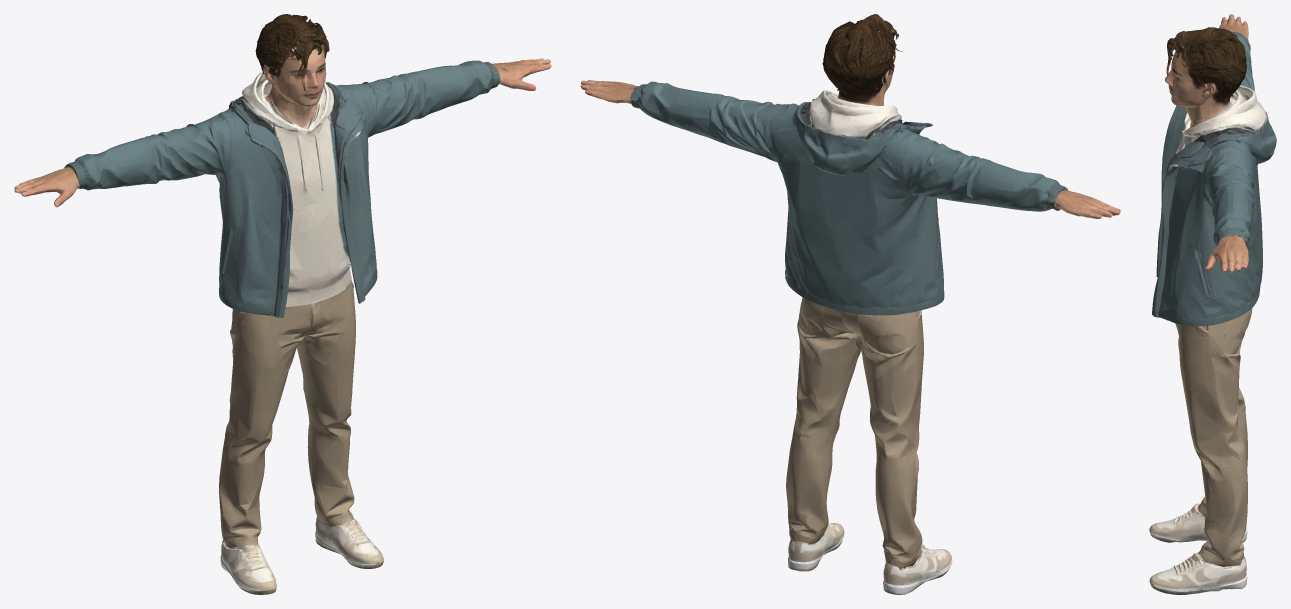
Rendered from character_n02_optimized.glb.
The picture shows the model from 3 angles, left to right: view 1: azimuth 30°, elevation 25°; view 2: azimuth 150°, elevation 25°; view 3: azimuth 270°, elevation 25°; orthographic projection. The views are drawn at different scales.
Parts seen in each view (by area): view 1: output_unwrapped; view 2: output_unwrapped; view 3: output_unwrapped.
Boxes of the visible parts, bbox=[...] form: output_unwrapped: bbox=[14, 14, 551, 594]; output_unwrapped: bbox=[580, 14, 1120, 594]; output_unwrapped: bbox=[1149, 14, 1276, 594].
Size of the model in its own units: 1.9 by 1.84 by 0.3993.
Materials: 1 (1 with a texture image).
